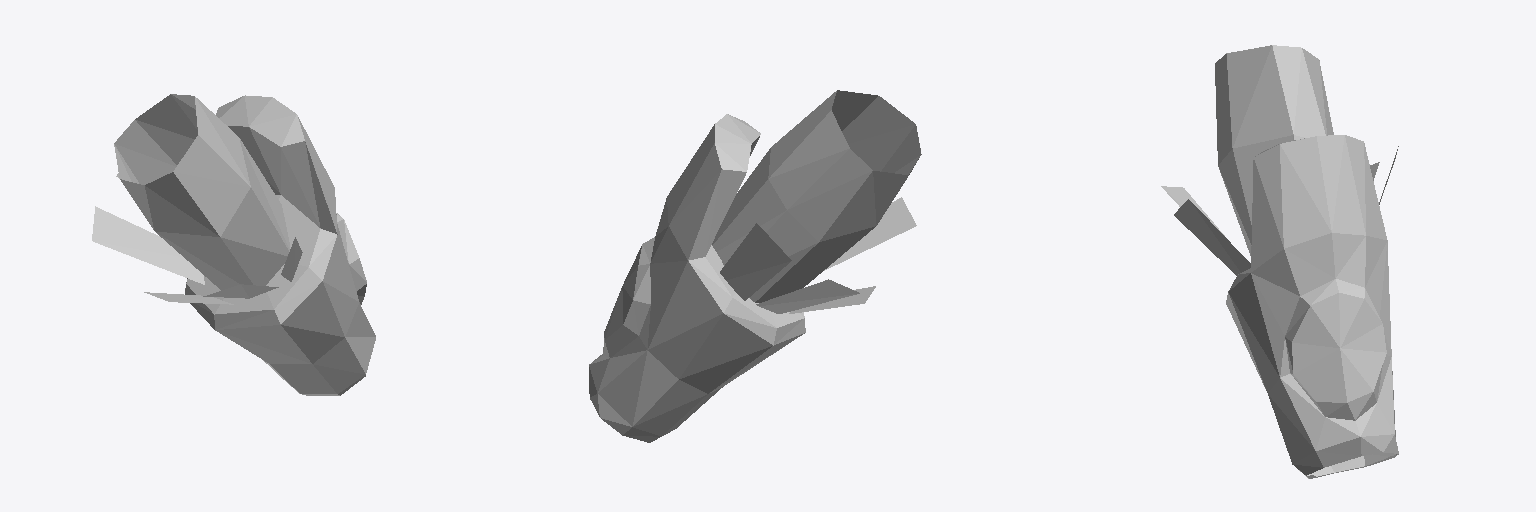
Rendered from ABDKarma.obj.
The picture shows the model from 3 angles: view 1: azimuth 30°, elevation 25°; view 2: azimuth 150°, elevation 25°; view 3: azimuth 270°, elevation 25°; orthographic projection.
Parts seen in each view (by area): view 1: Brazo_der_Material.001; view 2: Brazo_der_Material.001; view 3: Brazo_der_Material.001.
Part boxes in pixels (left/top/right/bottom): Brazo_der_Material.001: left=92, top=94, right=375, bottom=395; Brazo_der_Material.001: left=589, top=90, right=921, bottom=442; Brazo_der_Material.001: left=1161, top=45, right=1398, bottom=478.
Bounding box in the file's own units: 20.91 × 25.78 × 15.58.